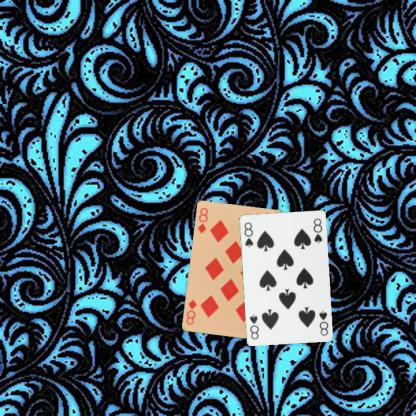8d: (195, 205, 209, 235)
8s: (241, 219, 255, 249), (317, 308, 330, 337)
